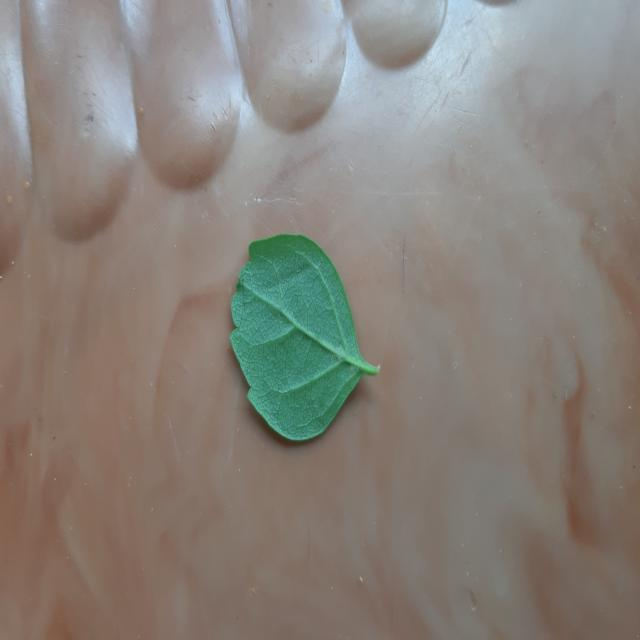tecoma: (230, 233, 379, 440)
